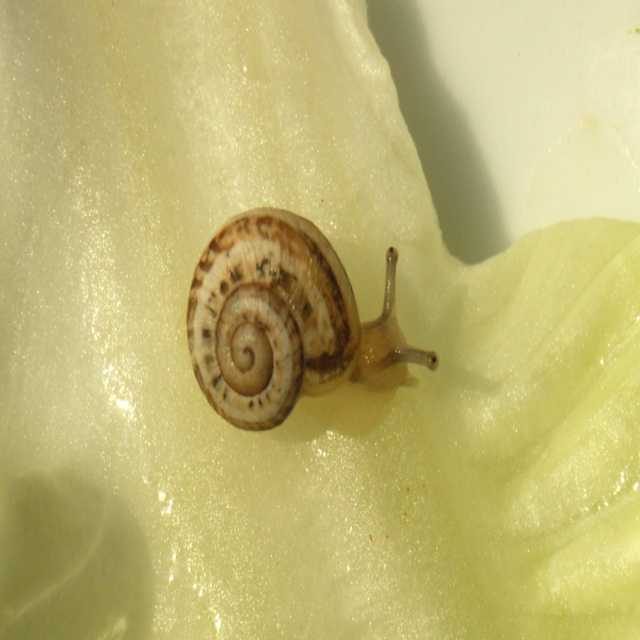Snail: (183, 200, 441, 439)
